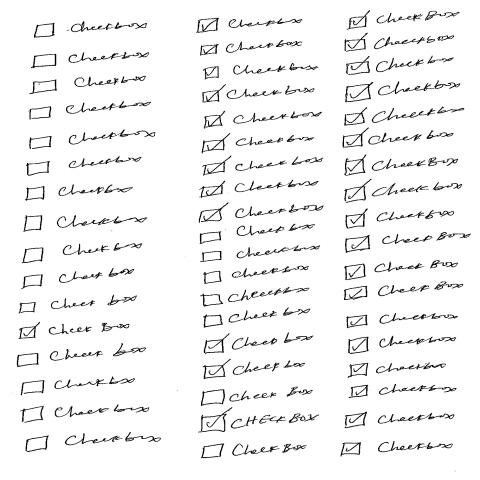Check Box: (201, 408, 321, 433), (17, 345, 146, 368), (25, 432, 163, 453), (345, 232, 472, 254), (204, 155, 325, 177), (344, 182, 463, 204), (19, 296, 137, 318), (29, 130, 158, 150), (22, 243, 143, 264), (346, 9, 460, 31), (345, 82, 461, 103), (344, 260, 460, 281), (344, 282, 465, 302), (200, 224, 315, 245), (23, 269, 136, 290), (21, 405, 151, 423), (29, 101, 152, 120), (345, 209, 456, 230), (21, 376, 137, 396), (27, 157, 142, 177), (203, 111, 323, 130), (202, 84, 316, 104), (202, 287, 310, 308), (199, 205, 325, 223), (340, 438, 453, 458), (204, 334, 316, 354), (345, 157, 459, 176), (204, 309, 312, 329), (200, 181, 320, 199), (345, 109, 465, 127), (202, 245, 321, 263), (202, 134, 314, 153), (346, 57, 456, 76), (345, 411, 455, 430), (204, 360, 308, 380), (348, 336, 457, 355), (34, 21, 149, 39), (31, 76, 146, 94), (204, 266, 311, 285), (24, 216, 149, 232), (345, 35, 456, 53), (343, 131, 454, 149), (203, 64, 320, 81), (202, 387, 312, 405), (19, 323, 131, 340), (32, 52, 150, 68), (197, 17, 304, 34), (346, 313, 459, 329), (25, 186, 135, 202), (201, 40, 302, 57), (201, 444, 307, 460), (351, 385, 458, 400), (350, 363, 448, 378)
